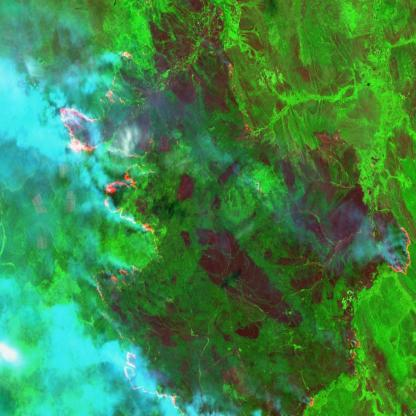fire: (56, 49, 188, 416), (383, 219, 416, 276)
